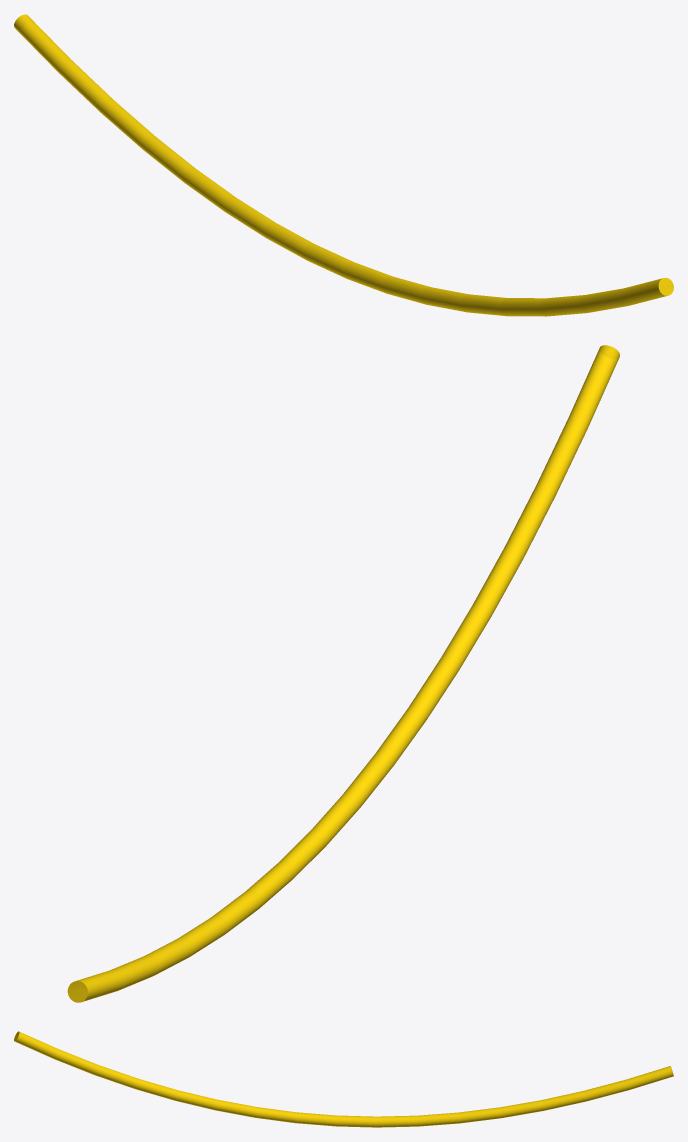
The model's file is Event_421115418_track_9.fbx.
3 renders of one model, top to bottom at view 1: azimuth 30°, elevation 25°; view 2: azimuth 150°, elevation 25°; view 3: azimuth 270°, elevation 25°, orthographic. The views are drawn at different scales.
Visible parts, largest first — view 1: Model; view 2: Model; view 3: Model.
Boxes of the visible parts, x1=… form: Model: x1=14, y1=14, x2=673, y2=316; Model: x1=67, y1=345, x2=619, y2=1002; Model: x1=14, y1=1031, x2=673, y2=1127.
Size of the model in its own units: 0.2983 by 0.4506 by 2.39.
